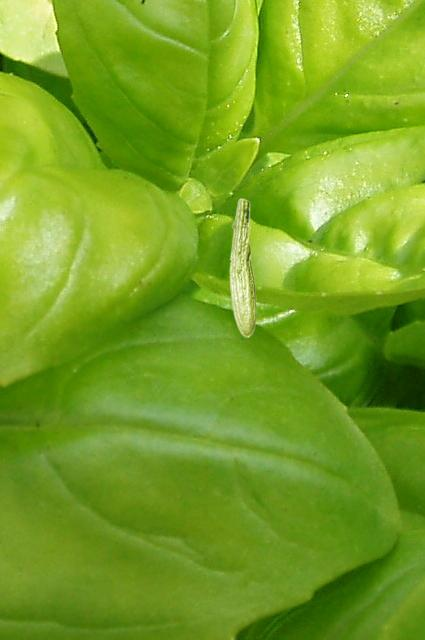ampalaya: (229, 198, 257, 339)
